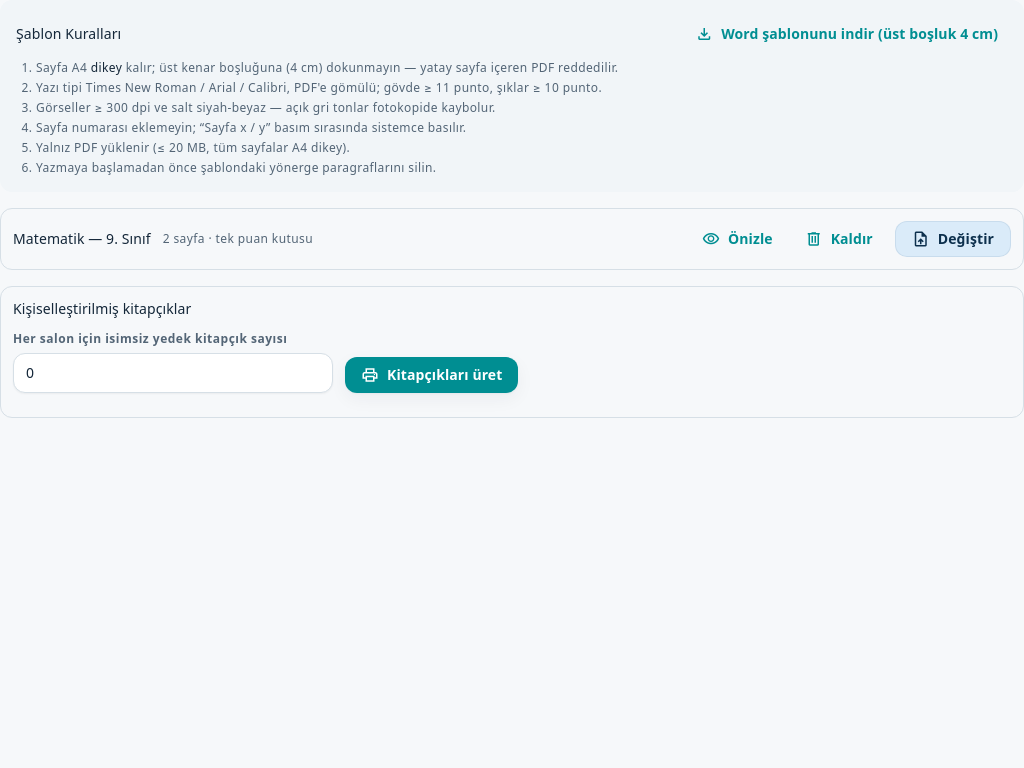
it: SorularPaneli › 'Kaldır' onayında 'Vazgeç' denirse dosya silinmez
The image size is (1024, 768).
Click the button "Kaldır". click: (839,239)
box: [795,221,883,257]
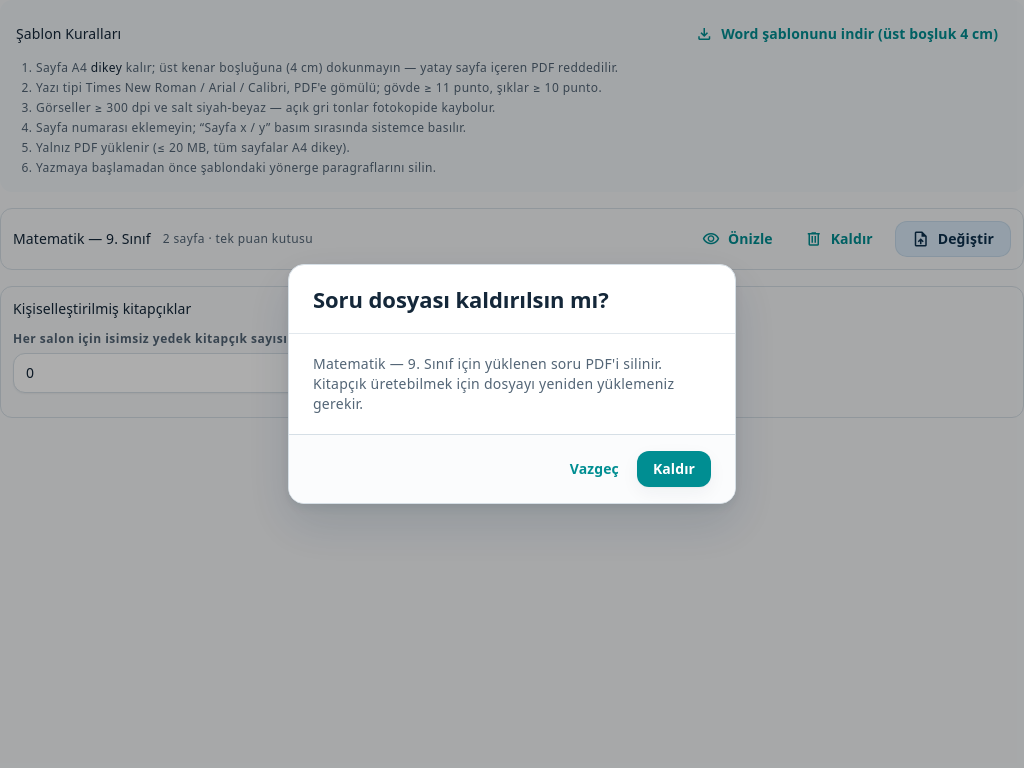
Click the button "Vazgeç". click: (594,469)
box: [560,451,629,487]
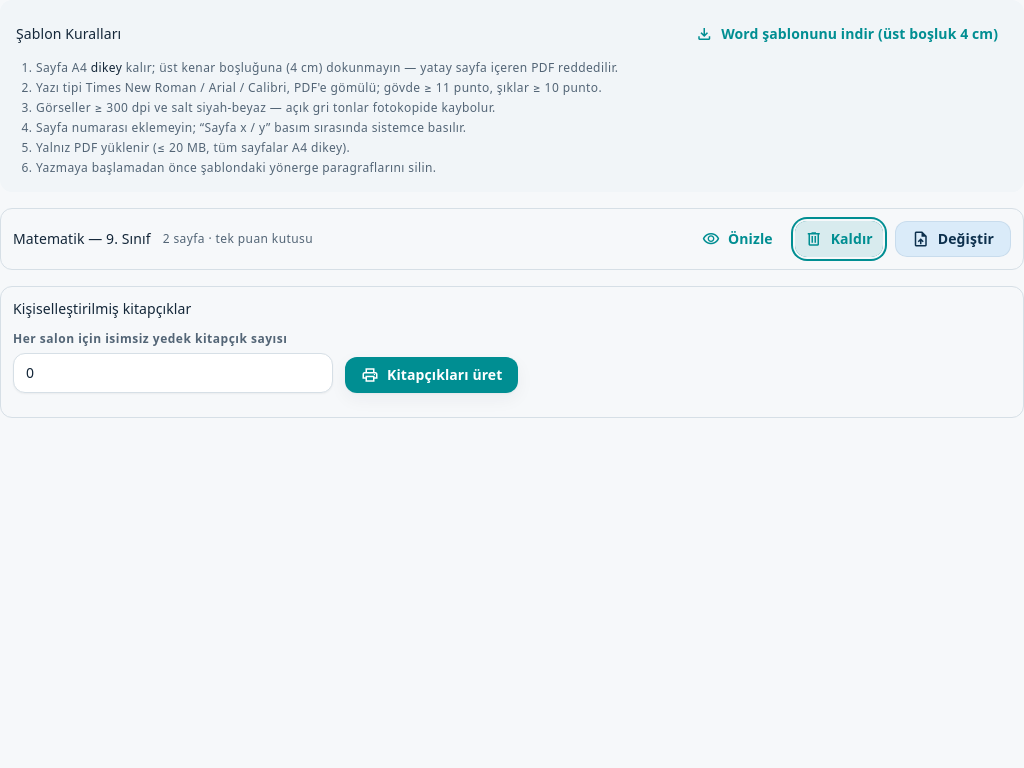
Check: the dialog is gone
